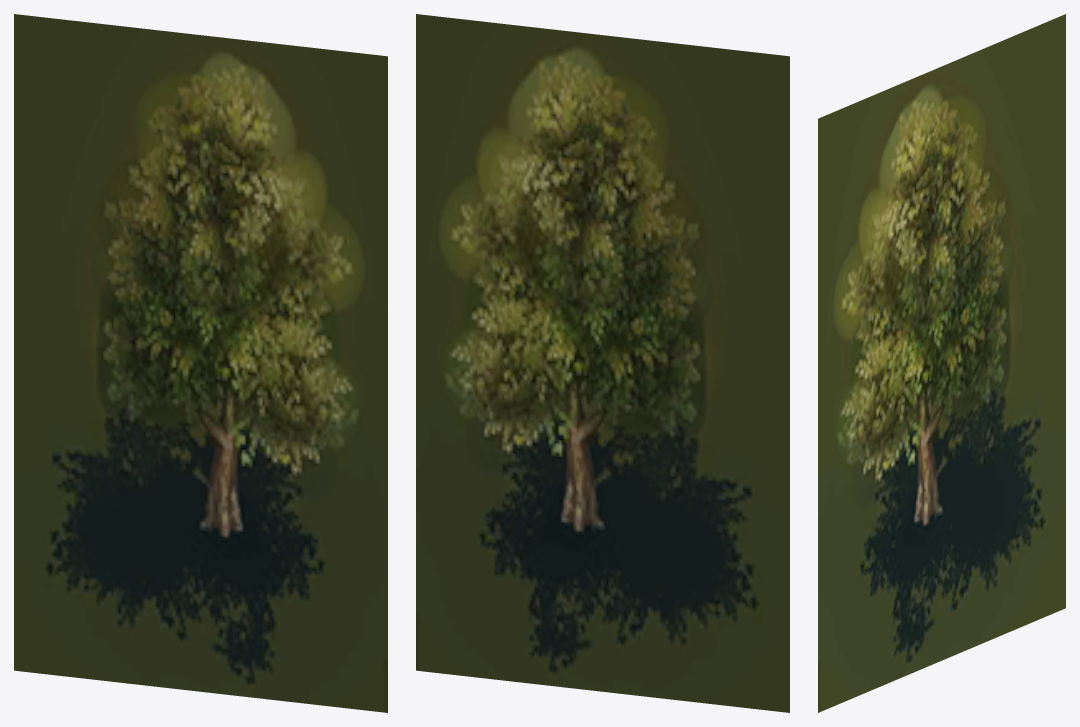
File: T_CommonTree_02.fbx
3 renders of one model, left to right at view 1: azimuth 30°, elevation 25°; view 2: azimuth 210°, elevation 25°; view 3: azimuth 270°, elevation 25°, orthographic. The views are drawn at different scales.
Parts seen in each view (by area): view 1: T_CommonTree_02; view 2: T_CommonTree_02; view 3: T_CommonTree_02.
Part boxes in pixels (<box>): T_CommonTree_02: <box>14,14,387,712</box>; T_CommonTree_02: <box>416,14,789,712</box>; T_CommonTree_02: <box>818,14,1065,712</box>.
Size of the model in its own units: 2.6 by 6.89 by 2.6.
